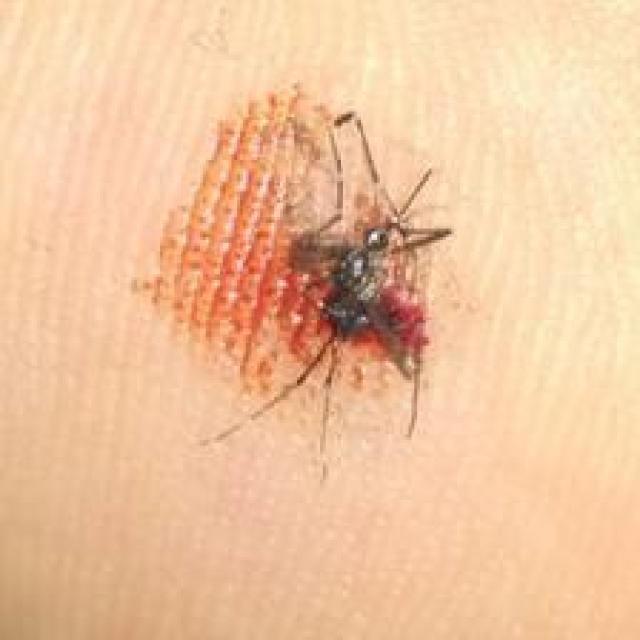Aedes albopictus: (134, 82, 454, 484)
